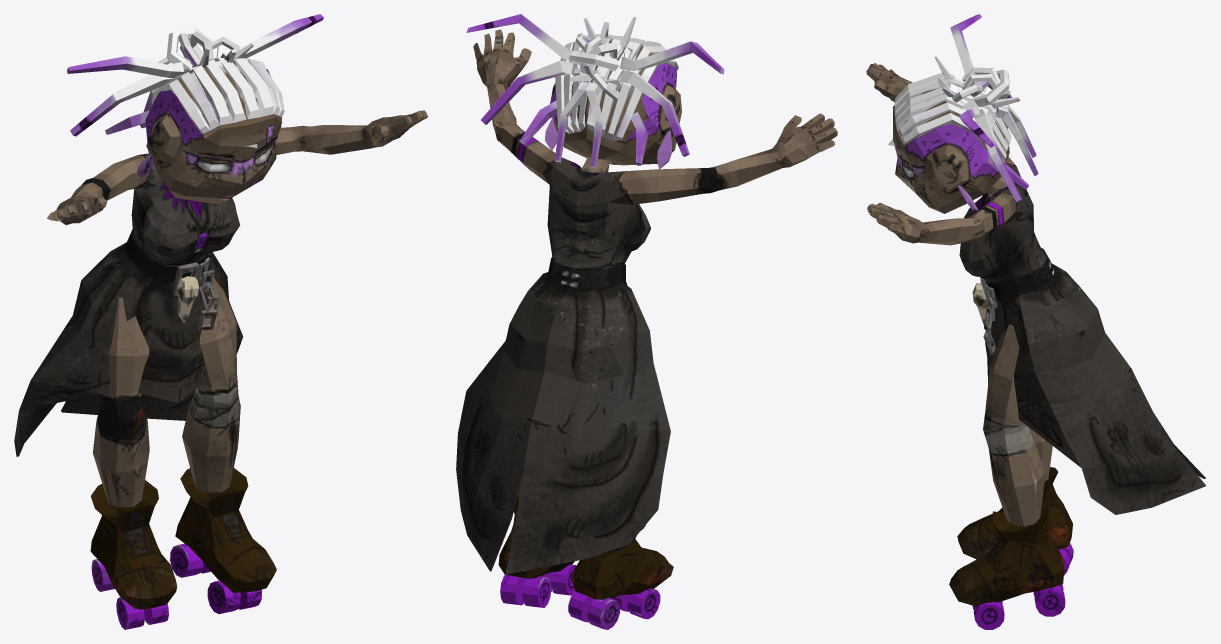
File: bruja_000208.obj
3 renders of one model, left to right at view 1: azimuth 30°, elevation 25°; view 2: azimuth 150°, elevation 25°; view 3: azimuth 270°, elevation 25°, orthographic. The views are drawn at different scales.
Parts seen in each view (by area): view 1: Bruja_Plane.001; view 2: Bruja_Plane.001; view 3: Bruja_Plane.001.
Part boxes in pixels (x1=…): Bruja_Plane.001: x1=14, y1=14, x2=427, y2=629; Bruja_Plane.001: x1=456, y1=14, x2=837, y2=629; Bruja_Plane.001: x1=866, y1=14, x2=1205, y2=629.
Size of the model in its own units: 10.77 by 16.24 by 9.25.
